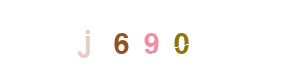0: (110, 0, 190, 80)
6: (105, 0, 185, 80)
9: (110, 0, 190, 80)
J: (71, 0, 151, 80)
